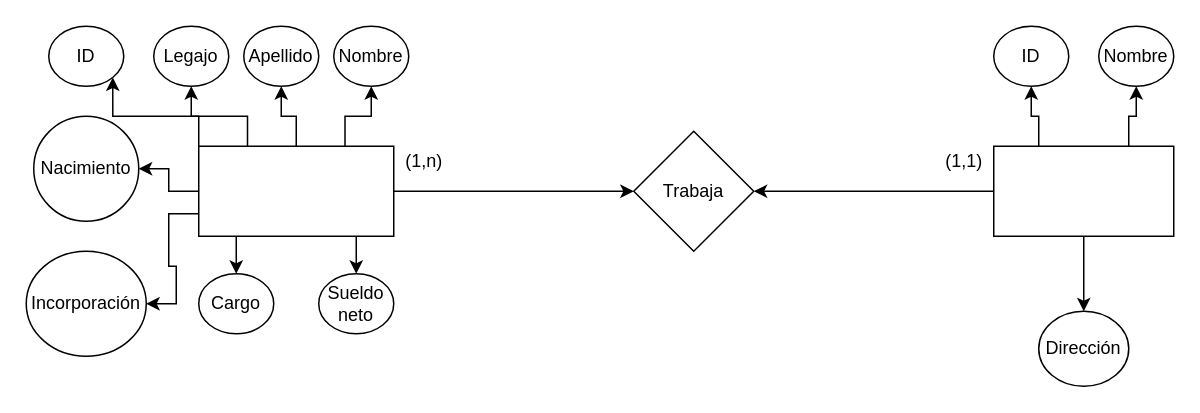
Some shapes in this 1200 by 413 pixel diagram are drawn without their labels. Each missing label, with the centre of its shape:
"Departamentos" goes at (x=1083, y=190).
"Empleados" goes at (x=295, y=190).
